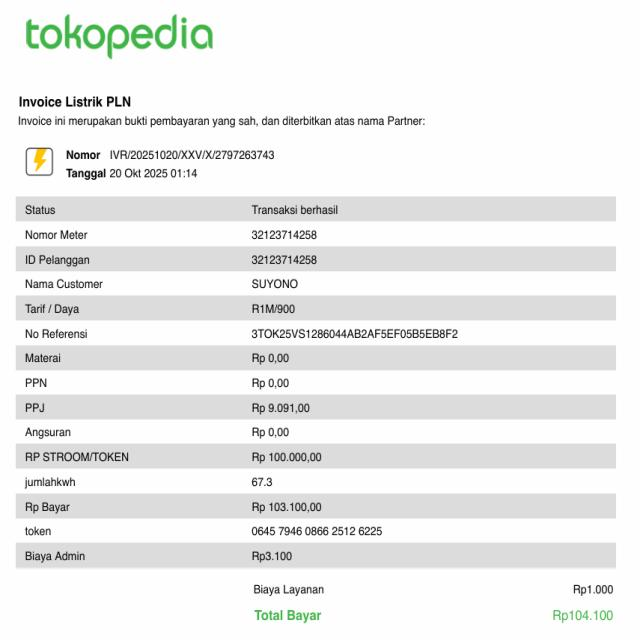date: (107, 164, 200, 182)
store: (20, 15, 223, 61), (16, 90, 137, 114)
total: (252, 603, 624, 628)
